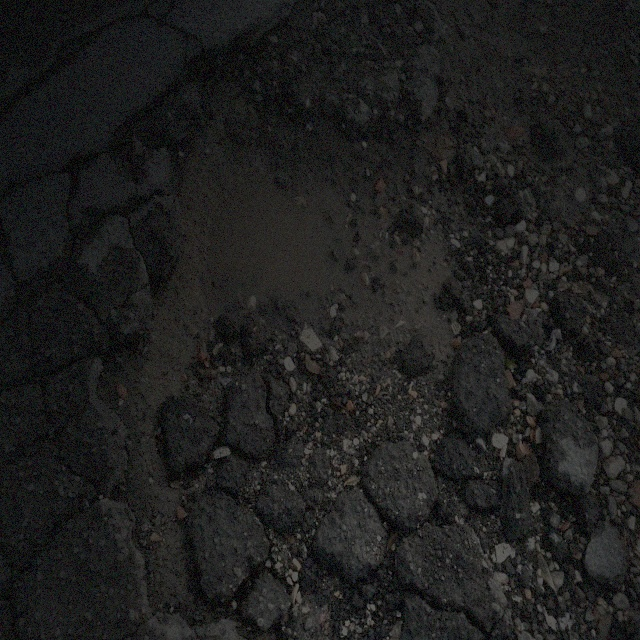pothole: (89, 50, 433, 562)
